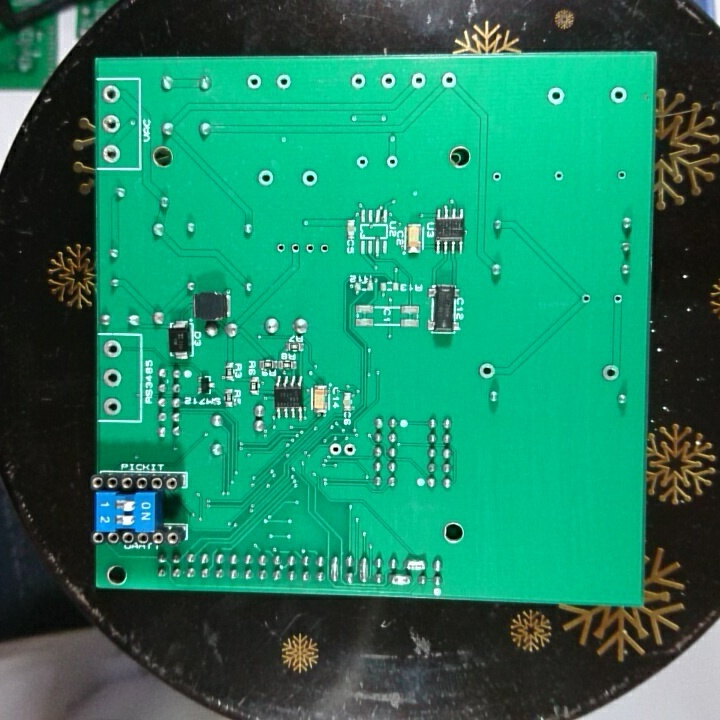F: (543, 83, 568, 108), (100, 140, 124, 166), (101, 365, 125, 390), (100, 395, 123, 419), (599, 360, 622, 383), (438, 69, 461, 92), (254, 166, 277, 189), (100, 82, 123, 105), (100, 112, 123, 135), (101, 337, 124, 360), (378, 69, 399, 94), (298, 167, 320, 190), (477, 360, 499, 382), (608, 83, 629, 105), (408, 70, 429, 92), (274, 71, 294, 94), (347, 71, 368, 92), (244, 72, 265, 92), (326, 440, 344, 458), (613, 166, 630, 184), (354, 153, 371, 171), (272, 239, 289, 257), (489, 166, 505, 185), (288, 239, 304, 258), (383, 152, 399, 170), (342, 440, 357, 459), (302, 240, 318, 257), (579, 289, 594, 307), (317, 239, 331, 258), (610, 291, 625, 308), (551, 167, 566, 184)
P: (356, 553, 371, 586), (402, 555, 429, 573), (386, 571, 413, 588), (328, 552, 340, 584)
